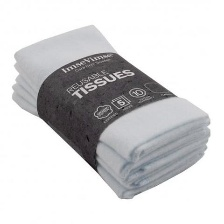tissue: (5, 16, 215, 203)
